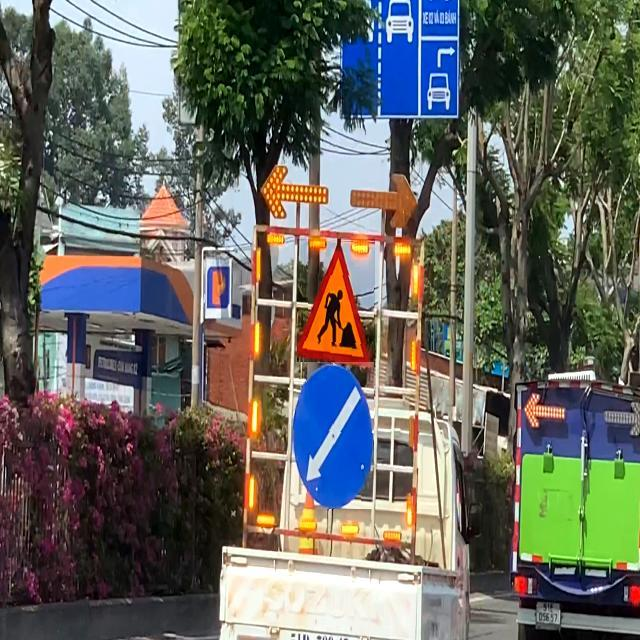R-302b: (292, 362, 374, 509)
W-227: (297, 239, 375, 367)
